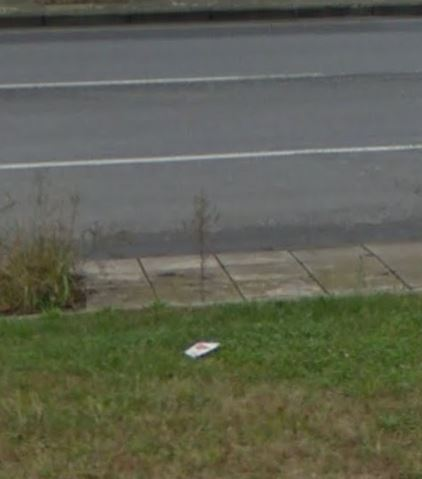trash: (182, 335, 228, 365)
